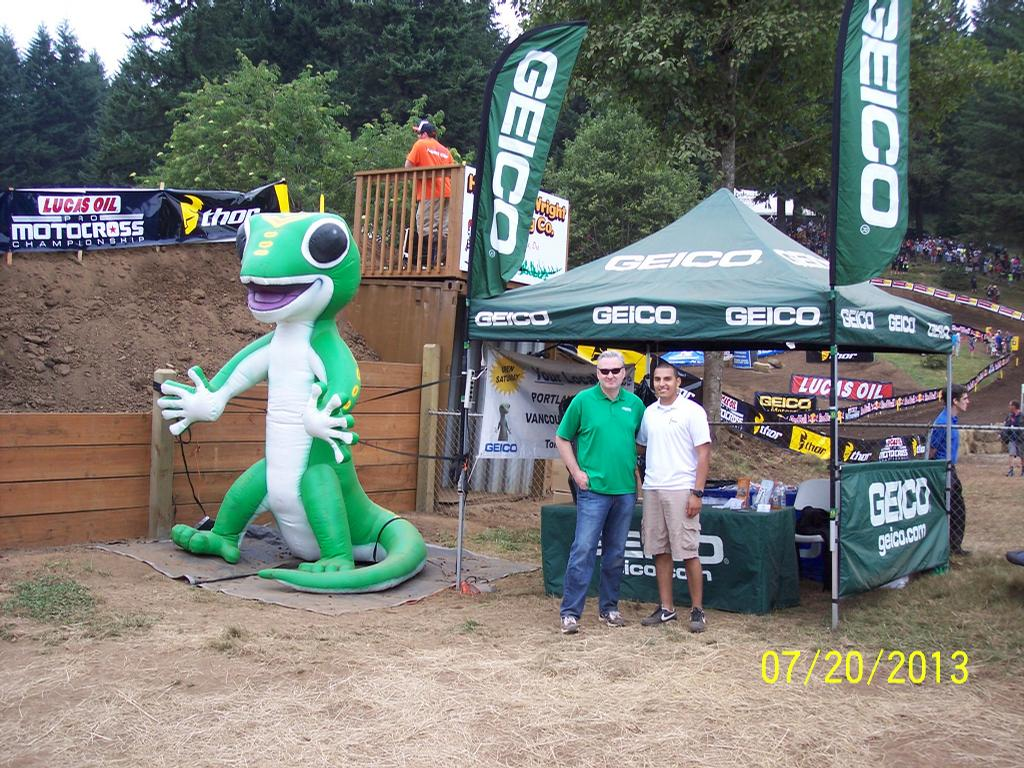Geico: (471, 300, 829, 337), (856, 3, 908, 242), (490, 35, 543, 261), (600, 246, 774, 284), (865, 468, 958, 535), (842, 299, 960, 349)
